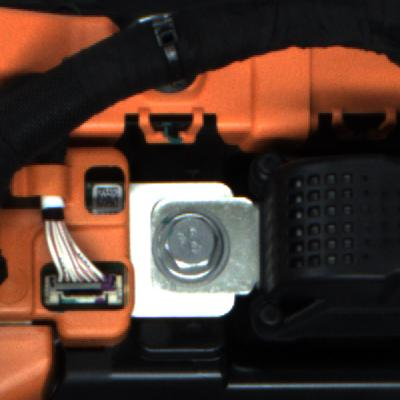nut_b: (152, 208, 232, 281)
